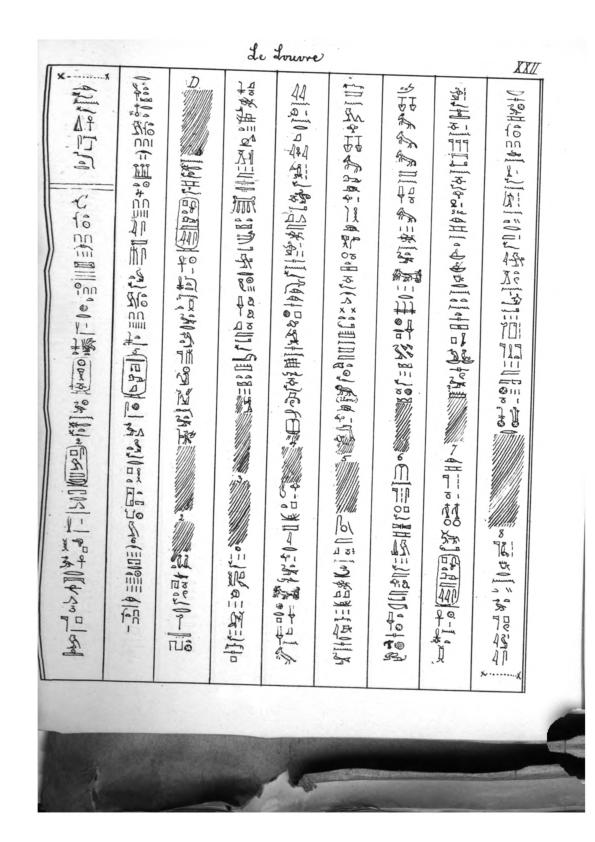circle: (173, 196, 203, 254), (433, 552, 463, 610), (119, 347, 149, 401), (68, 355, 96, 397), (64, 445, 90, 489)
